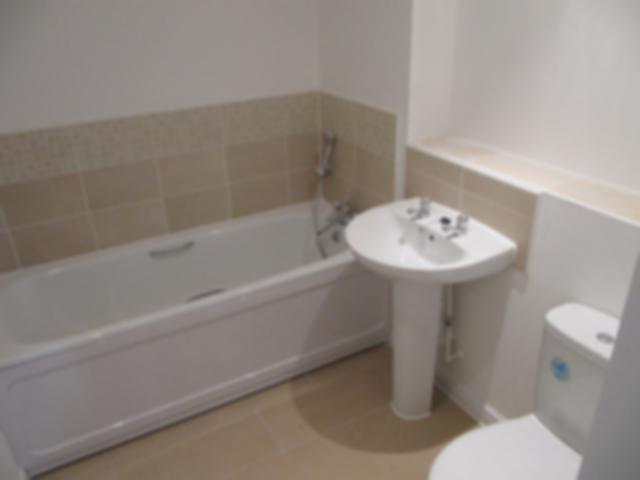Lavamanos: (348, 196, 504, 288)
Sanitario: (424, 296, 639, 479)
